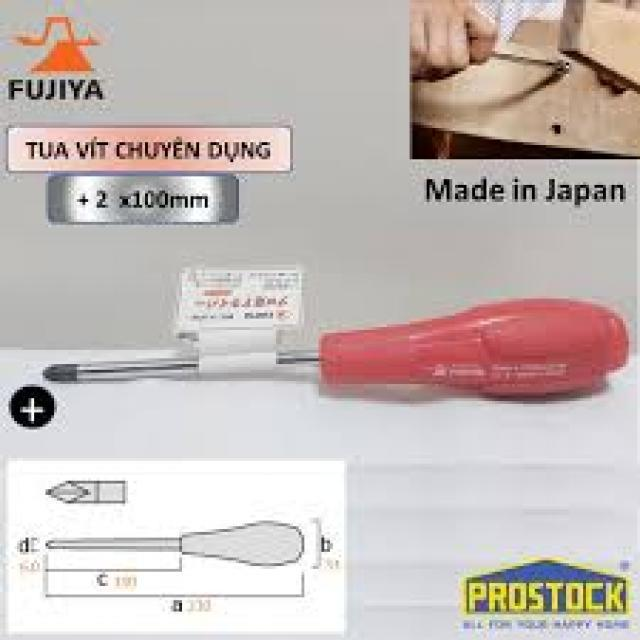screwdriver: (40, 294, 634, 402)
